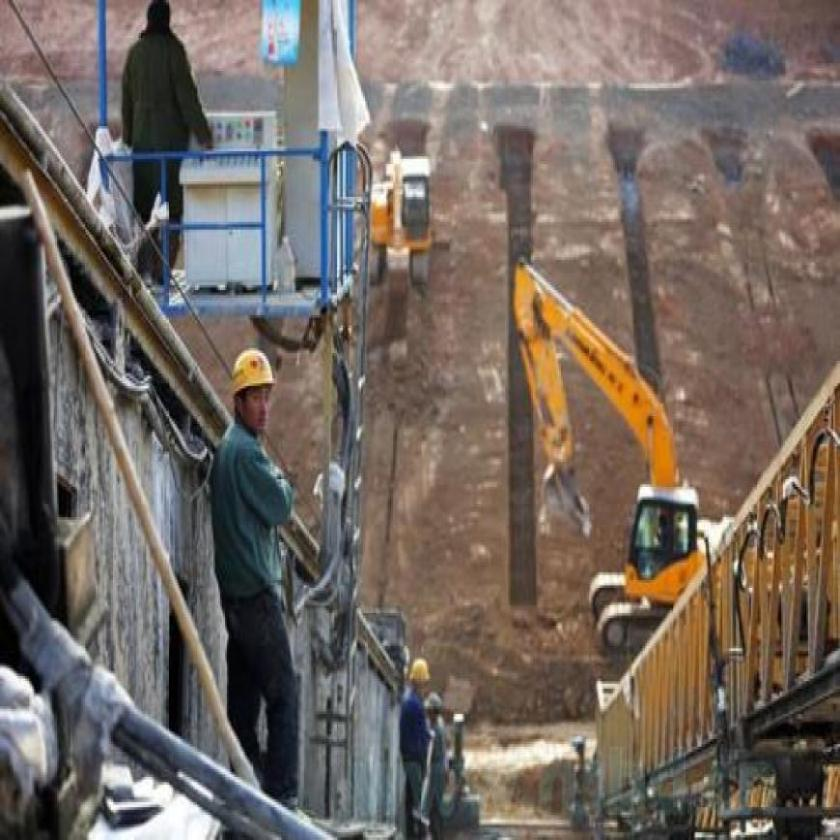Con_casco: (210, 346, 282, 434), (389, 642, 432, 702)
